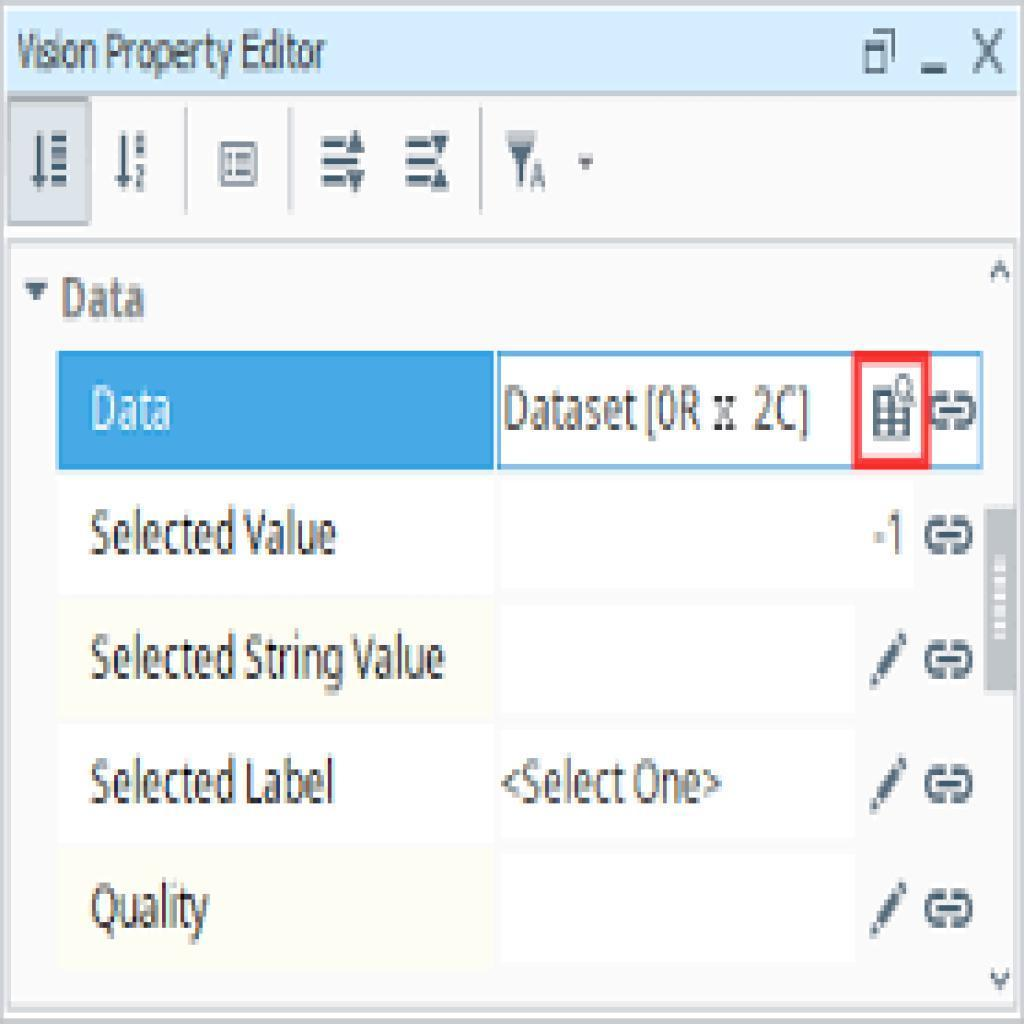icon: (859, 604, 910, 718), (929, 358, 981, 465), (919, 867, 979, 948), (864, 372, 922, 455), (925, 491, 977, 575), (315, 127, 372, 200), (502, 120, 553, 201), (210, 132, 270, 198), (921, 621, 979, 688), (402, 125, 456, 196), (866, 741, 912, 824), (27, 125, 77, 201), (867, 874, 914, 952), (921, 756, 982, 815), (112, 128, 160, 201), (854, 22, 907, 80), (968, 24, 1017, 79), (20, 272, 57, 312), (915, 51, 955, 84), (984, 255, 1019, 291), (565, 148, 607, 178)
label: (60, 271, 157, 328)
table: (62, 352, 987, 981)
